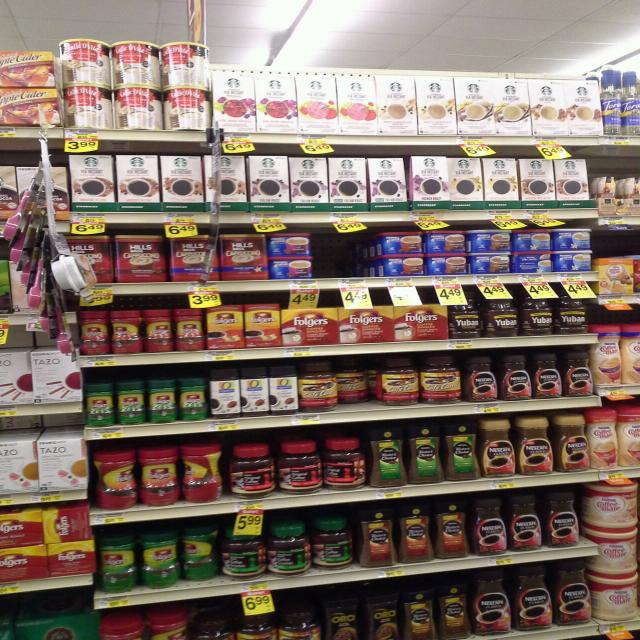void: (318, 231, 368, 302)
